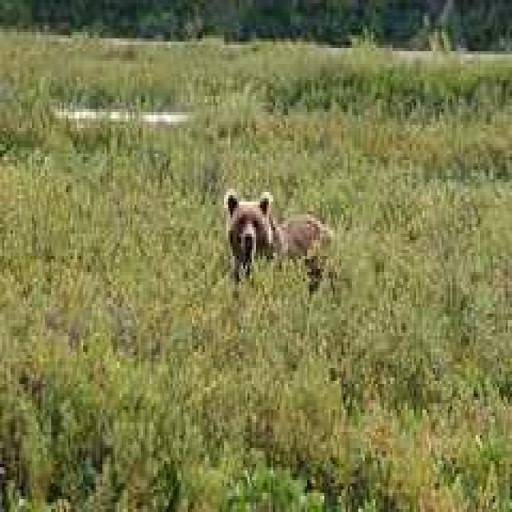Bear: (222, 186, 332, 294)
